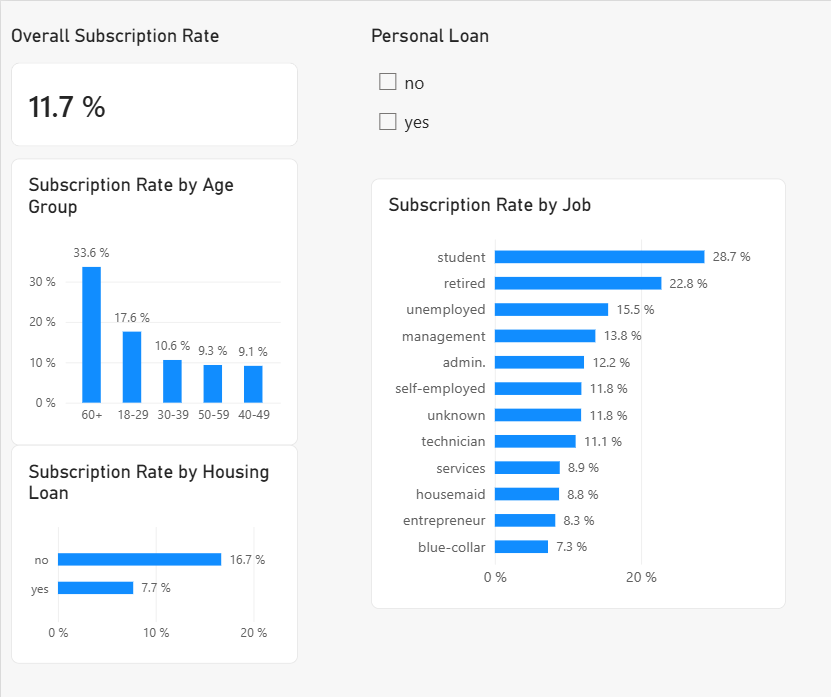

Layout of this report page (visuals, bound fields, positions):
{"tool":"powerbi","page":{"name":"Page 1","canvas":[1920,1080],"ordinal":0},"visuals":[{"type":"columnChart","title":"Subscription Rate by Age Group","fields":{"Category":["bank-full - bank-clean.age_group"],"Y":["bank-full - bank-clean.Subscription Rate"]},"box":[10,153.3,280,280],"z":0},{"type":"cardVisual","title":"Overall Subscription Rate","fields":{"Data":["bank-full - bank-clean.Subscription Rate"]},"box":[10,23,280,119],"z":1000},{"type":"clusteredBarChart","title":"Subscription Rate by Job","fields":{"Category":["bank-full - bank-clean.job"],"Y":["bank-full - bank-clean.Subscription Rate"]},"box":[361.1,153.3,404.4,420],"z":2000},{"type":"clusteredBarChart","title":"Subscription Rate by Housing Loan","fields":{"Category":["bank-full - bank-clean.housing"],"Y":["bank-full - bank-clean.Subscription Rate"]},"box":[10,433.3,280,213.3],"z":3000},{"type":"slicer","title":"Personal Loan","fields":{"Values":["bank-full - bank-clean.loan"]},"box":[361.1,23.3,280,105.6],"z":4000}]}

Visuals, with their boxes on the page's 1920x1080 design canvas (x1, y1, x2, y2). These are canvas units, not pixel positions in the 831x697 screenshot, which may show the page scaled, cropped or inside an application window:
"Subscription Rate by Age Group" columnChart: bbox=(10, 153, 290, 433)
"Overall Subscription Rate" cardVisual: bbox=(10, 23, 290, 142)
"Subscription Rate by Job" clusteredBarChart: bbox=(361, 153, 766, 573)
"Subscription Rate by Housing Loan" clusteredBarChart: bbox=(10, 433, 290, 647)
"Personal Loan" slicer: bbox=(361, 23, 641, 129)
